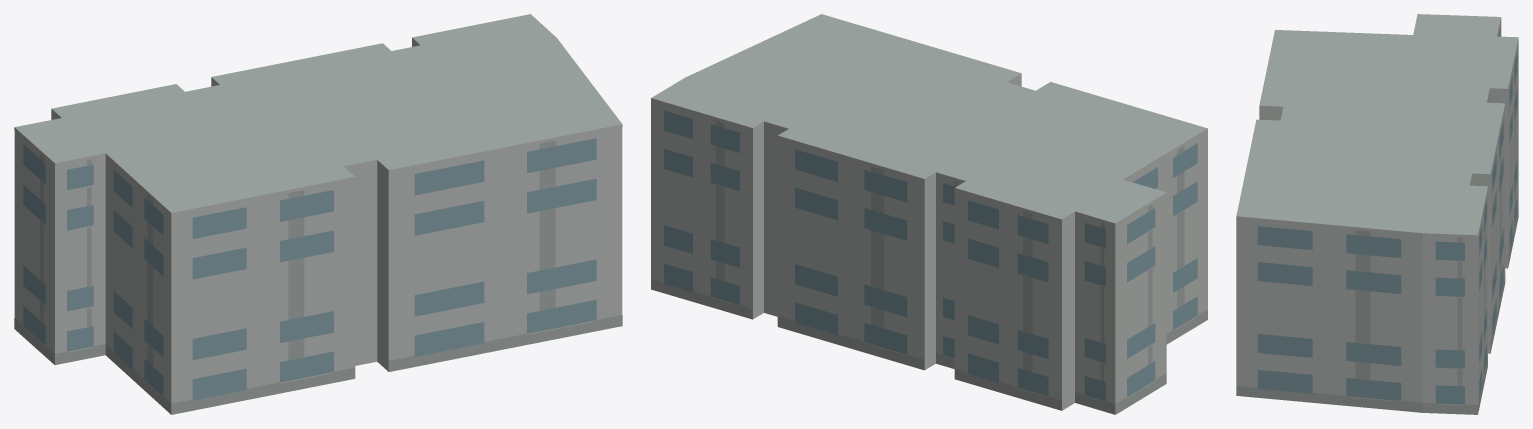
File: survey-upis-32742013.glb
3 views of the same model, side by side, from view 1: azimuth 30°, elevation 25°; view 2: azimuth 150°, elevation 25°; view 3: azimuth 270°, elevation 25° (orthographic). The views are drawn at different scales.
Parts seen in each view (by area): view 1: survey-upis-32742013.tmp; view 2: survey-upis-32742013.tmp; view 3: survey-upis-32742013.tmp.
Boxes of the visible parts, box(x1,y1,x2,y2) form: survey-upis-32742013.tmp: box(14, 14, 622, 414); survey-upis-32742013.tmp: box(651, 14, 1207, 414); survey-upis-32742013.tmp: box(1236, 14, 1518, 414).
Bounding box in the file's own units: 40.31 × 15.25 × 21.74.
